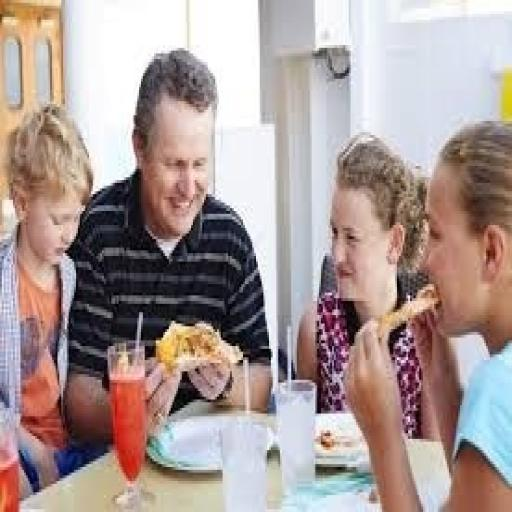eating: (2, 45, 508, 504)
